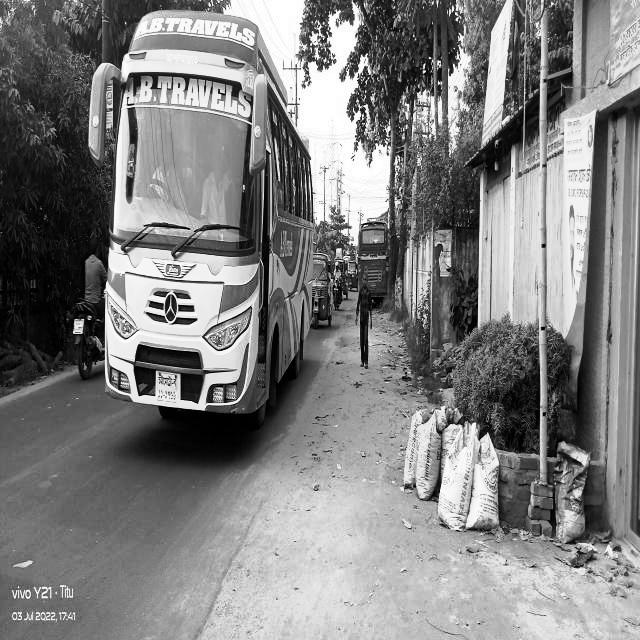Bus: (91, 0, 314, 429)
